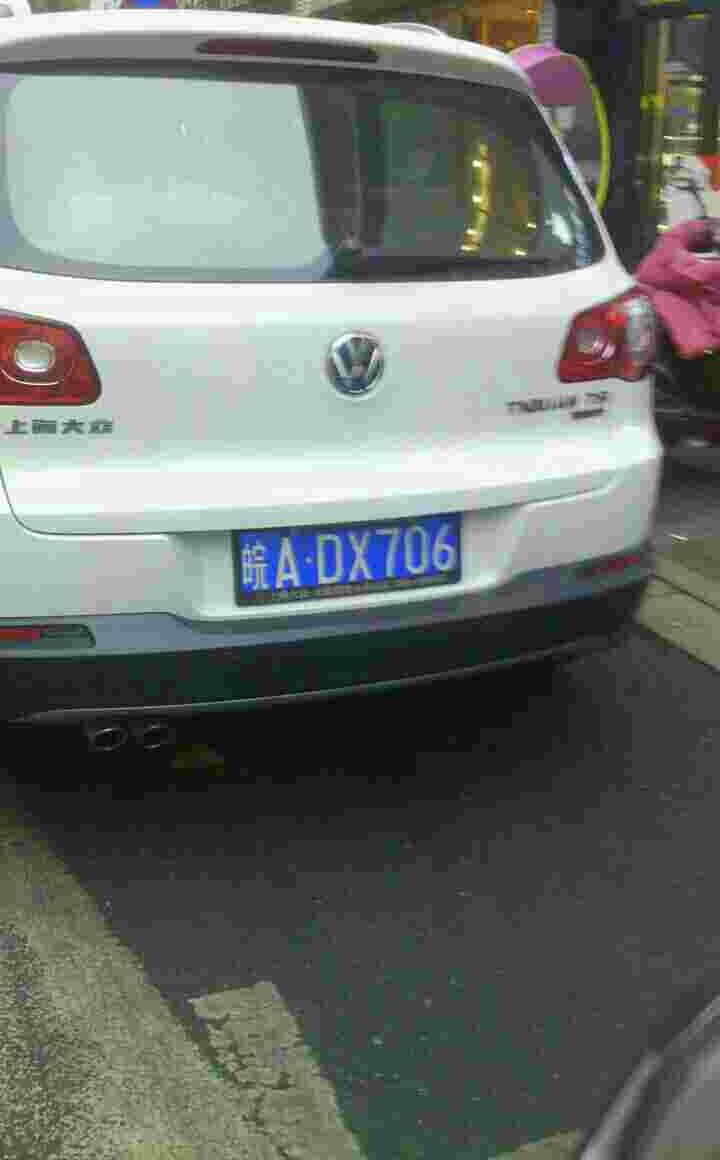plate: (242, 505, 469, 607)
